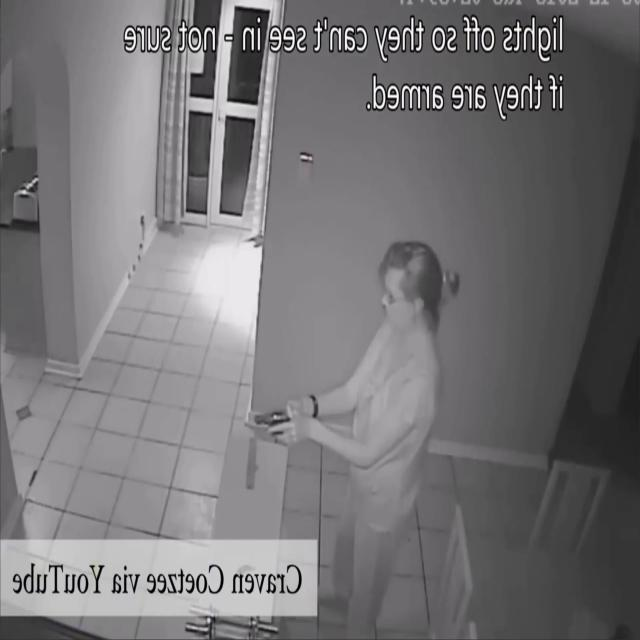Gun: (252, 406, 296, 446)
